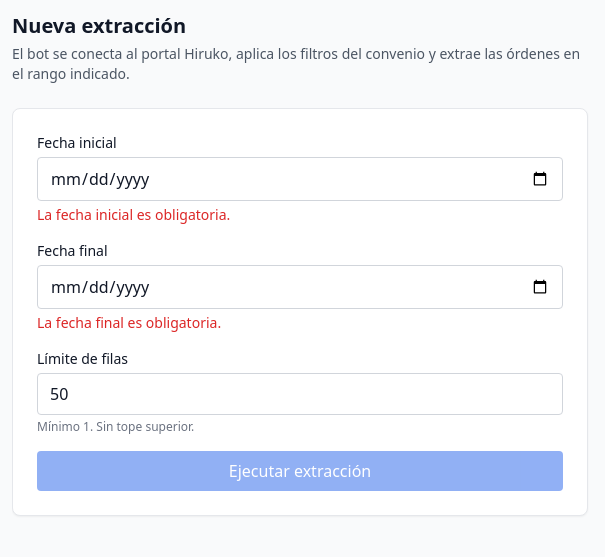
Test case: NewExtraction › shows an error when limit is zero
Replace the text in the number field labelled "Límite de filas" with "0" at (300, 394), box [37,373,563,415]
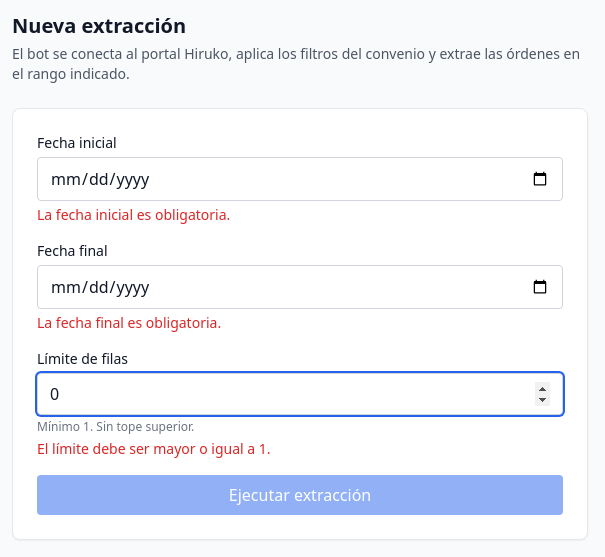
Now the text "El límite debe ser mayor o igual a 1." is shown, box [37,439,271,458]
